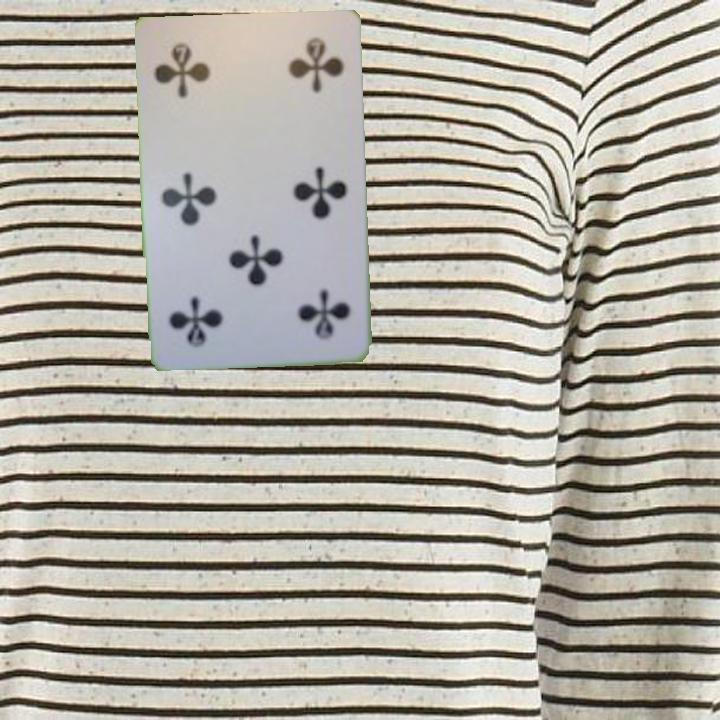c_7.png: (150, 29, 253, 119), (253, 262, 355, 351)
